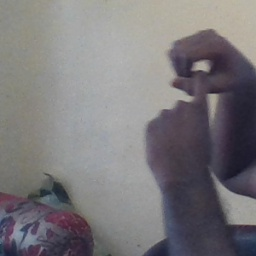Q: (140, 26, 236, 168)
